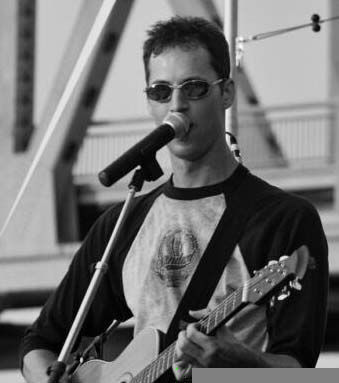guitar: (66, 249, 316, 383)
